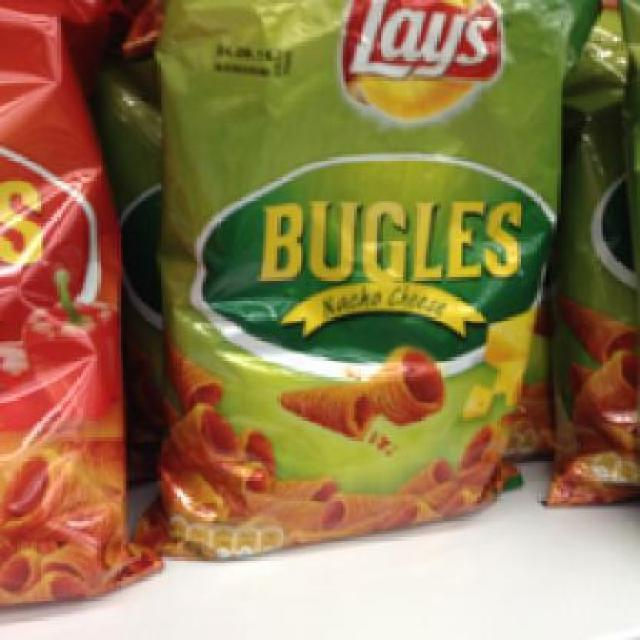Chips: (143, 2, 560, 550), (1, 3, 157, 606)
